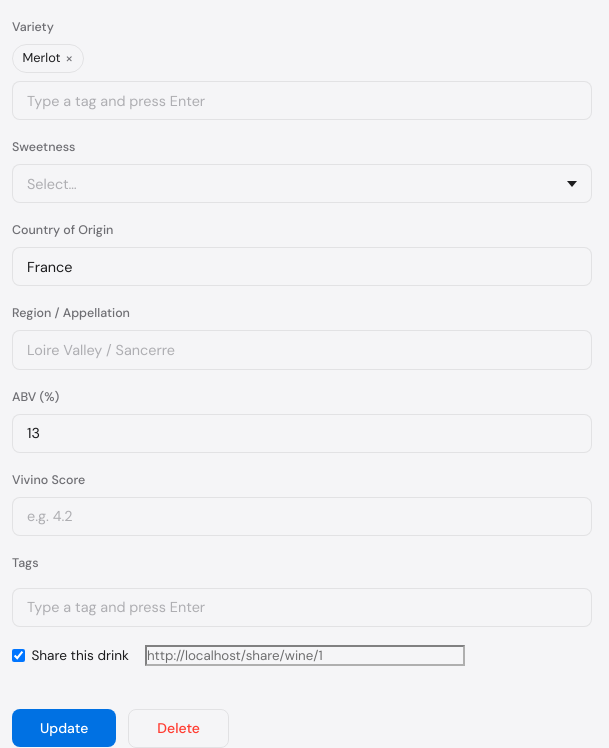
unchecking the share toggle hides the copyable link
The width and height of the screenshot is (609, 748).
(page scrolled)
Check: the field with test id "share-link" is shown, box [145,645,465,666]
Click the checkbox labelled "Share this drink". click: (18, 656)
box: [12,649,25,662]
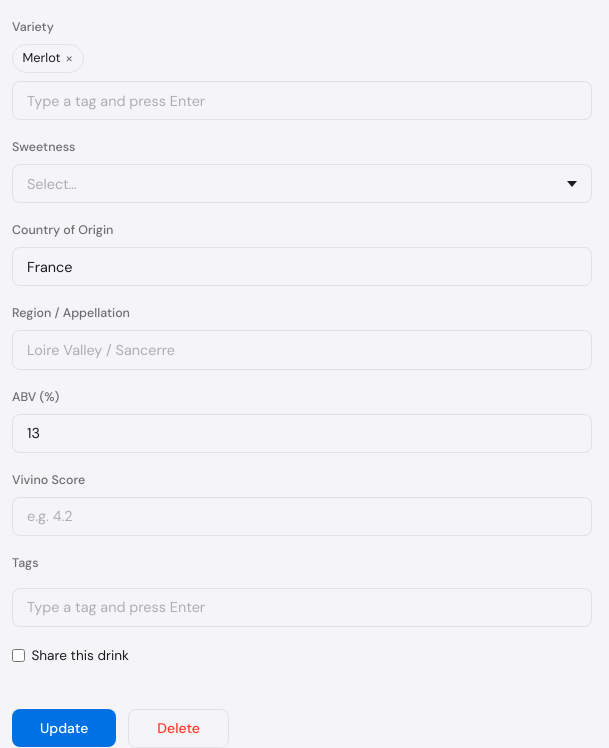
Check: the field with test id "share-link" is gone
